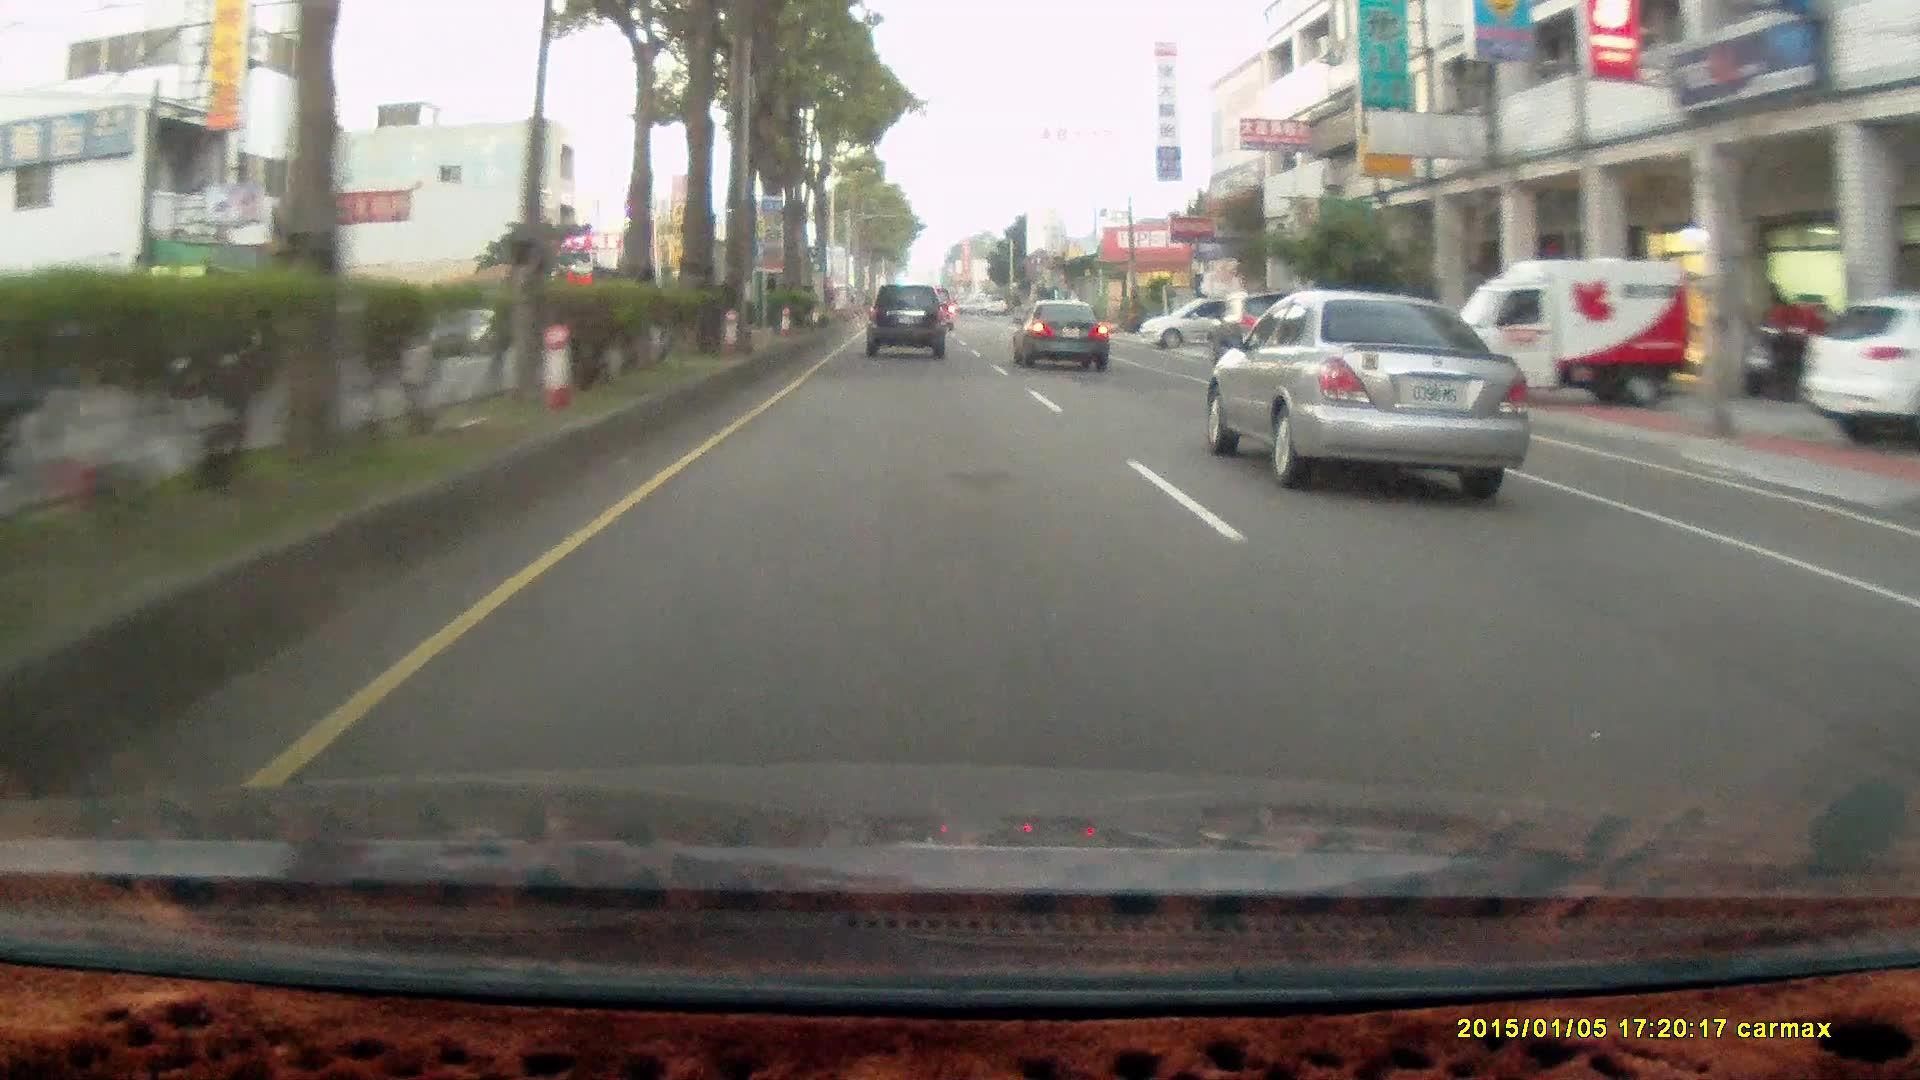vehicle: (1215, 290, 1542, 489), (1432, 253, 1696, 407), (1432, 253, 1691, 407), (1797, 293, 1917, 448), (1797, 291, 1920, 443), (1131, 293, 1265, 352), (1011, 293, 1113, 368), (1203, 289, 1304, 364), (1220, 287, 1319, 363), (1135, 295, 1270, 349), (1011, 295, 1108, 369), (865, 282, 949, 360), (864, 282, 945, 357)
